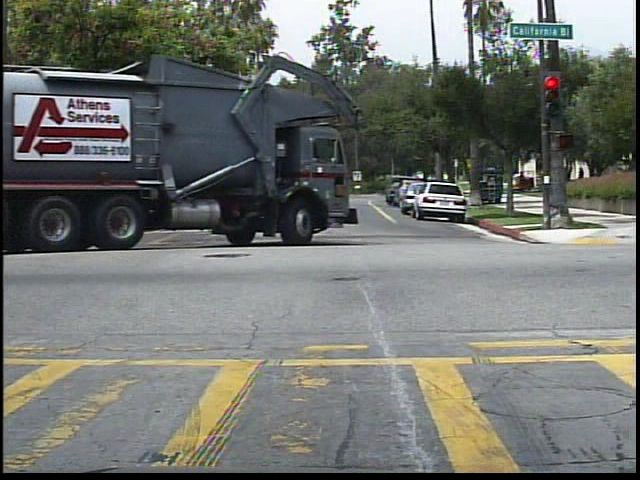person: (573, 163, 591, 194)
